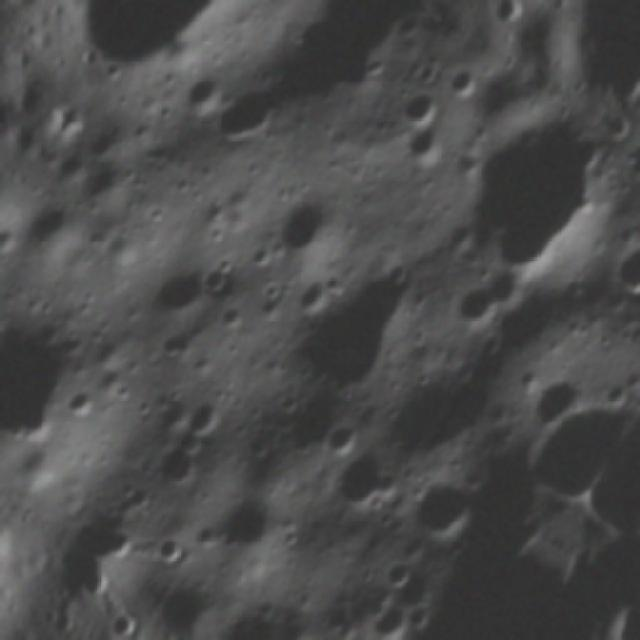crater: (439, 94, 624, 286), (271, 232, 438, 414), (0, 290, 126, 512), (488, 372, 634, 530), (180, 49, 303, 180), (395, 457, 503, 566), (432, 245, 532, 352), (212, 480, 302, 577), (322, 432, 410, 516), (218, 575, 319, 640), (150, 428, 228, 509), (384, 66, 458, 143), (0, 247, 29, 442), (438, 44, 507, 118), (372, 539, 436, 606), (397, 114, 461, 180), (595, 227, 640, 313), (350, 589, 424, 640), (310, 406, 367, 466), (620, 140, 640, 195)
